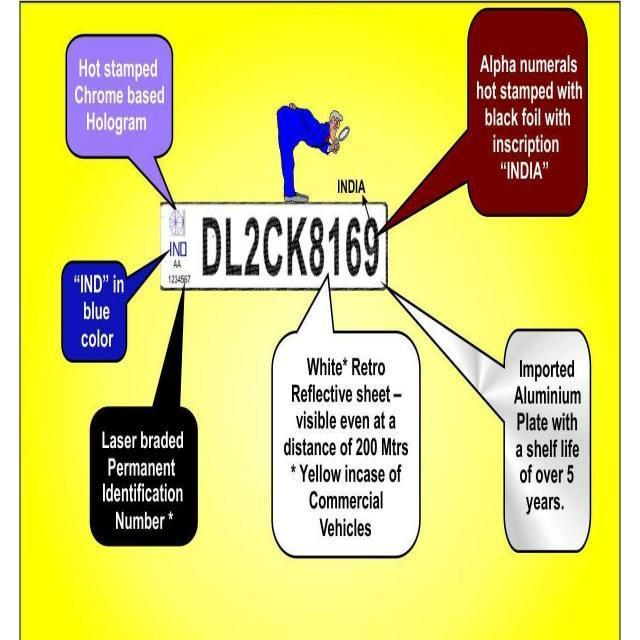License_Plate: (158, 204, 388, 292)
